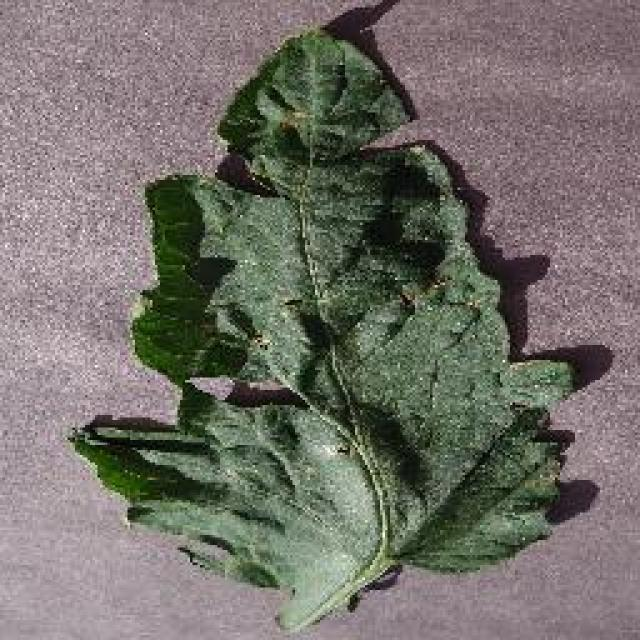Tomato Septoria spot leaf: (71, 25, 576, 640)
